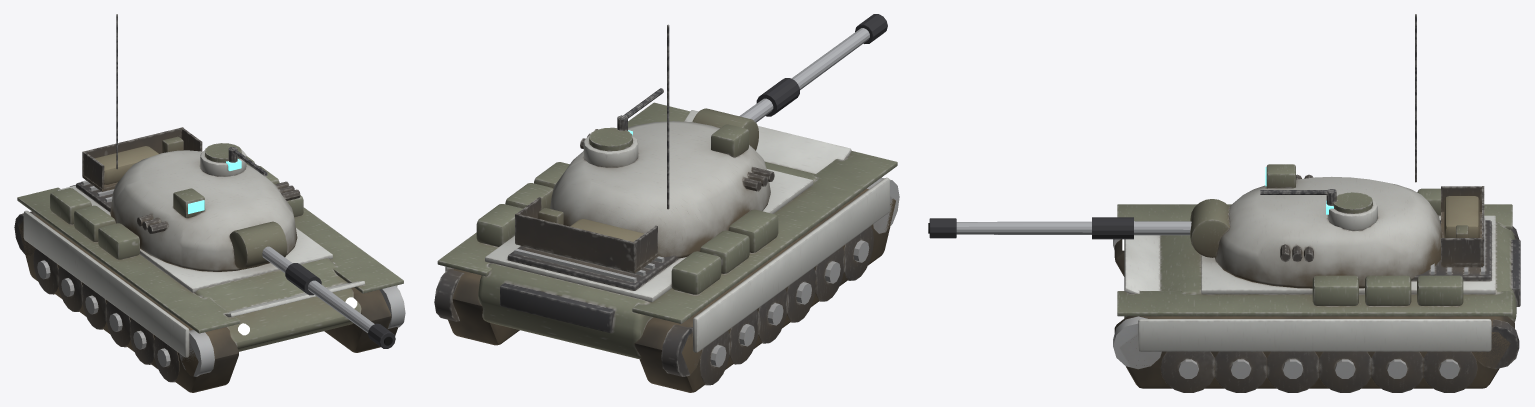
Rendered from tank.glb.
3 views of the same model, side by side, from view 1: azimuth 30°, elevation 25°; view 2: azimuth 150°, elevation 25°; view 3: azimuth 270°, elevation 25° (orthographic). The views are drawn at different scales.
Visible parts, largest first — view 1: Hull, Turret, Barrel, Evacuator, MuzzleBrake; view 2: Hull, Turret, Barrel, Evacuator, MuzzleBrake; view 3: Hull, Turret, Barrel, Evacuator, MuzzleBrake.
Part boxes in pixels (x1,y1,x2,y2): Hull: (14, 156, 405, 392); Turret: (82, 14, 300, 271); Barrel: (262, 246, 374, 332); Evacuator: (285, 263, 321, 295); MuzzleBrake: (368, 323, 395, 348); Hull: (434, 102, 899, 392); Turret: (515, 24, 774, 273); Barrel: (739, 28, 869, 122); Evacuator: (756, 78, 799, 116); MuzzleBrake: (855, 14, 887, 43); Hull: (1113, 188, 1520, 392); Turret: (1190, 14, 1484, 288); Barrel: (956, 221, 1191, 235); Evacuator: (1092, 217, 1133, 239); MuzzleBrake: (929, 218, 956, 238).
Size of the model in its own units: 3.18 by 3.93 by 7.04.
14 materials, 11 textured.
